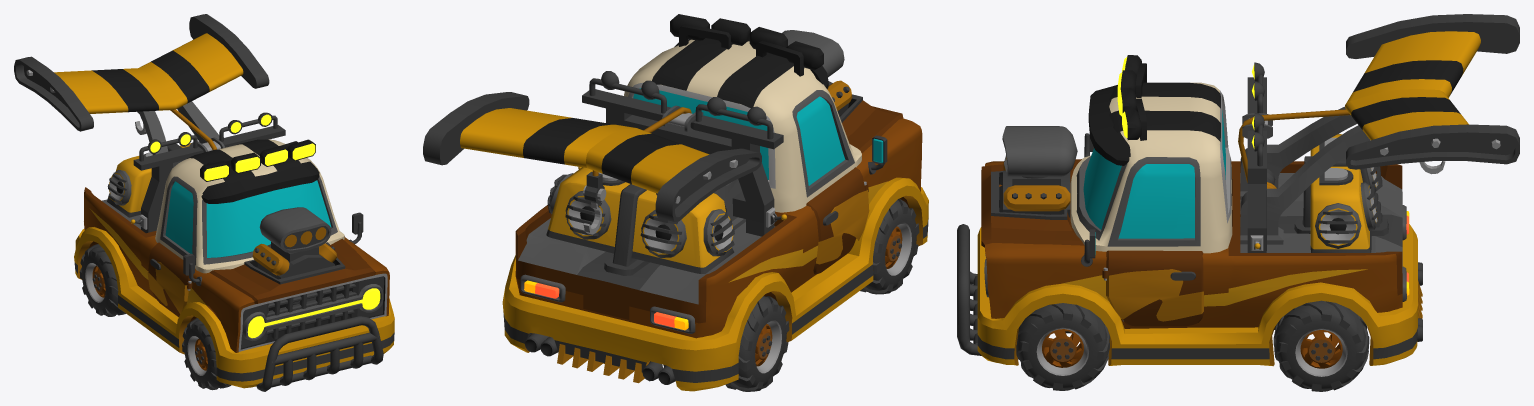
The model's file is SVehicle06.fbx.
3 views of the same model, side by side, from view 1: azimuth 30°, elevation 25°; view 2: azimuth 150°, elevation 25°; view 3: azimuth 270°, elevation 25° (orthographic). The views are drawn at different scales.
Visible parts, largest first — view 1: SVehicle06, SV6_Wheel_BR, SV6_Wheel_FR; view 2: SVehicle06, SV6_Wheel_BR, SV6_Wheel_FR; view 3: SVehicle06, SV6_Wheel_BL, SV6_Wheel_FL, SV6_Parts.
Boxes of the visible parts, x1,y1,x2,y2 form: SVehicle06: (14, 14, 394, 391); SV6_Wheel_BR: (79, 244, 125, 316); SV6_Wheel_FR: (182, 318, 231, 390); SVehicle06: (423, 14, 928, 391); SV6_Wheel_BR: (725, 296, 789, 391); SV6_Wheel_FR: (860, 198, 919, 294); SVehicle06: (957, 14, 1519, 366); SV6_Wheel_BL: (1273, 300, 1369, 391); SV6_Wheel_FL: (1016, 303, 1109, 390); SV6_Parts: (1238, 109, 1349, 188).
Bounding box in the file's own units: 261 × 275 × 524.
Materials: 1 (1 with a texture image).
